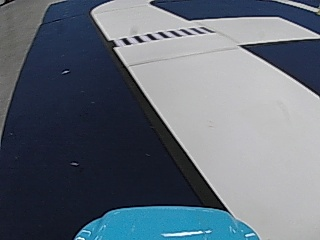CrossWalk: (115, 25, 206, 48)
